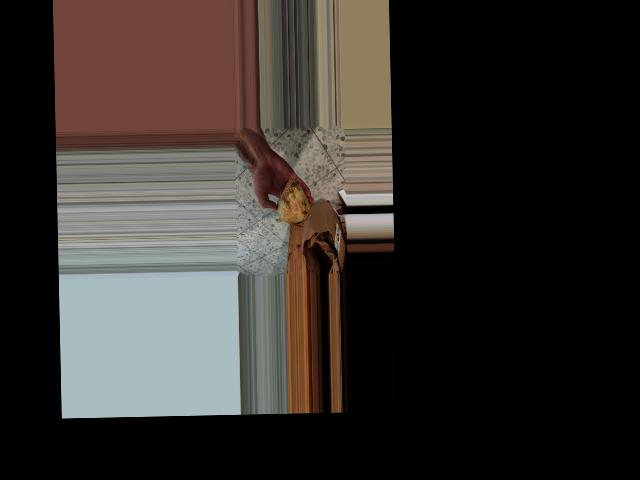onion: (276, 177, 310, 228)
